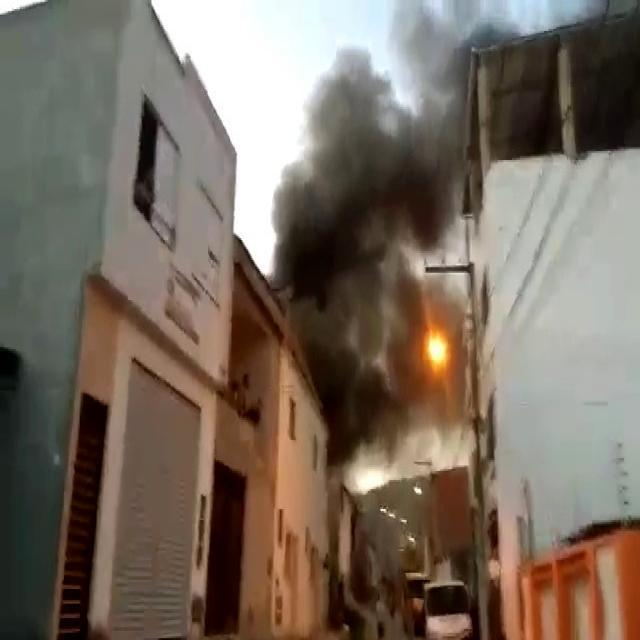Fire: (417, 314, 459, 386)
Smoke: (276, 39, 473, 468)
